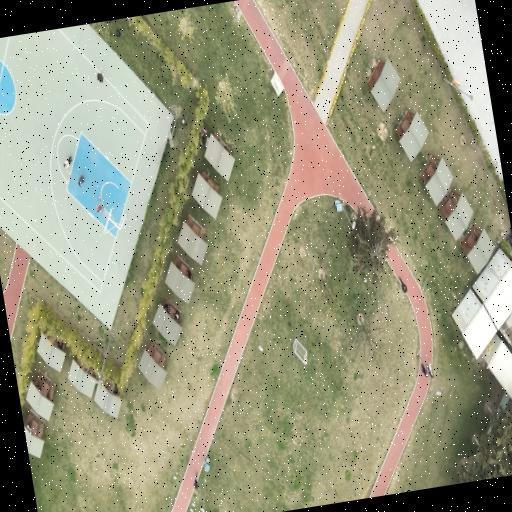person: (399, 277, 406, 292), (62, 156, 71, 167), (420, 363, 427, 376), (426, 362, 432, 377), (77, 173, 83, 186), (96, 198, 102, 211), (199, 126, 205, 138), (96, 72, 103, 82), (193, 473, 197, 489), (163, 303, 169, 311), (174, 311, 179, 320), (115, 28, 119, 36), (105, 20, 110, 22)
